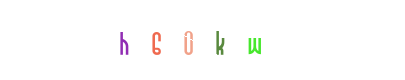0: (147, 0, 227, 80)
6: (116, 0, 196, 80)
H: (83, 0, 163, 80)
K: (162, 0, 242, 80)
W: (200, 0, 280, 80)
